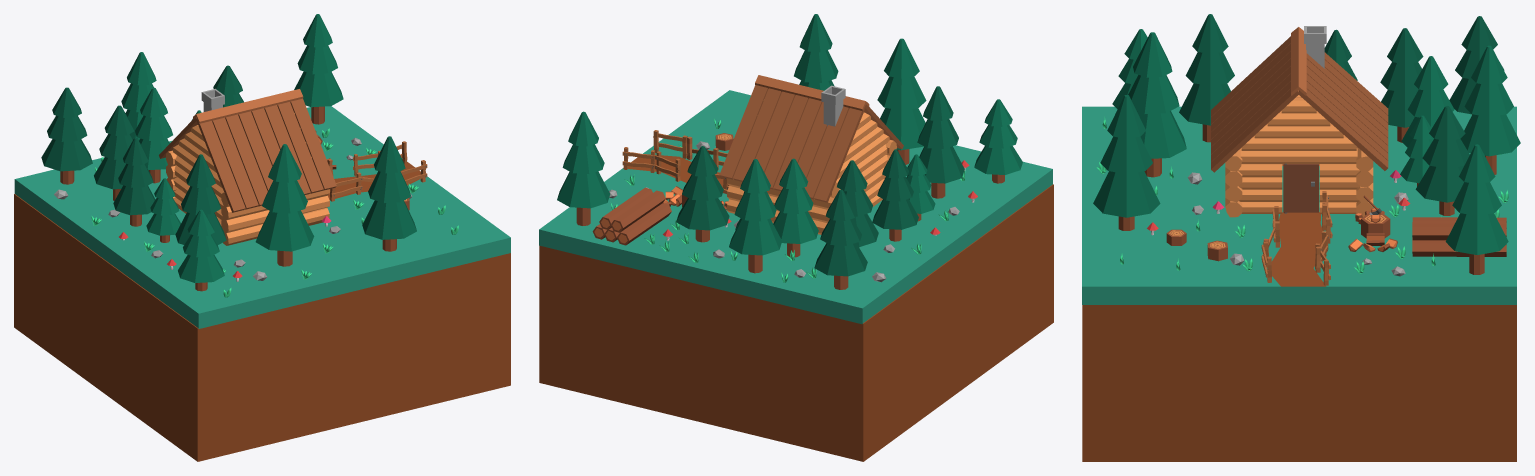
The model's file is house.glb.
3 renders of one model, left to right at view 1: azimuth 30°, elevation 25°; view 2: azimuth 150°, elevation 25°; view 3: azimuth 270°, elevation 25°, orthographic. The views are drawn at different scales.
Visible parts, largest first — view 1: Plane; view 2: Plane; view 3: Plane.
Part boxes in pixels (x1,y1,x2,y2): Plane: [14, 14, 510, 461]; Plane: [539, 14, 1053, 461]; Plane: [1082, 14, 1520, 461].
Bounding box in the file's own units: 5.97 × 4.88 × 6.12.
